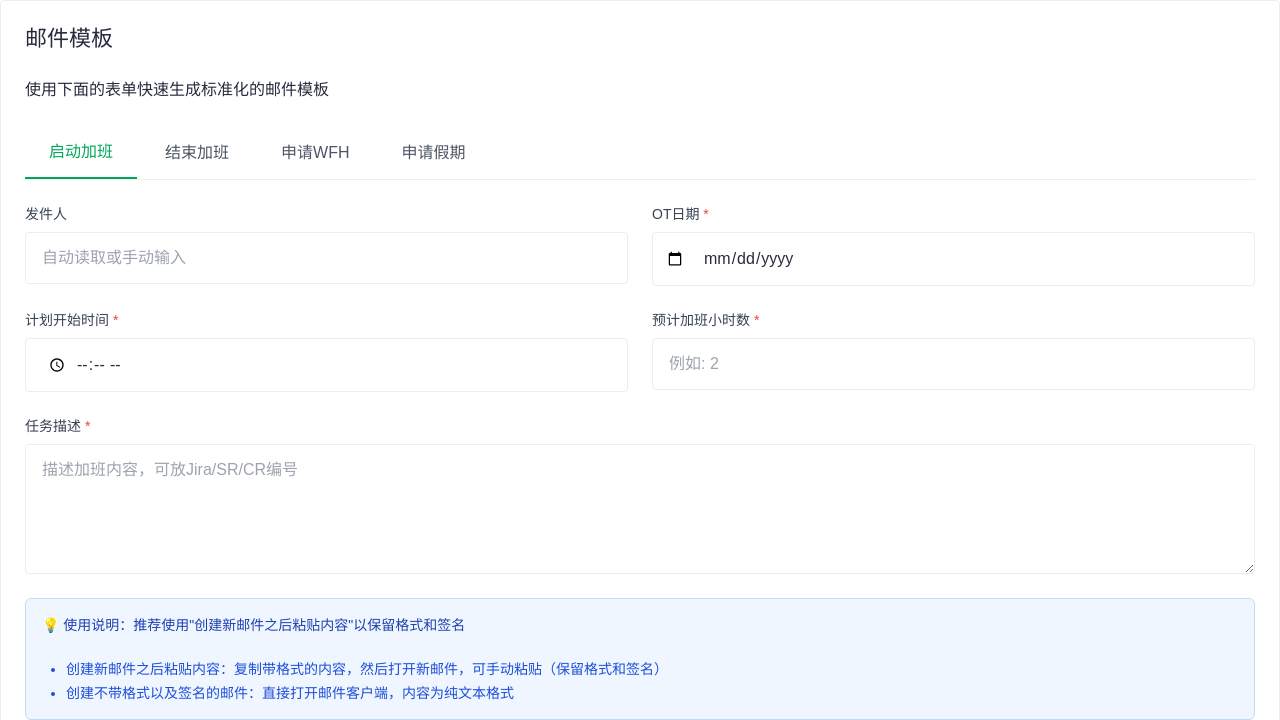
Test: Emailer Page › should switch tabs
What coordinates should you click on to do the following:
click the button "申请WFH"
I would click on:
 (315, 153)
Its box is [257,127,373,179].
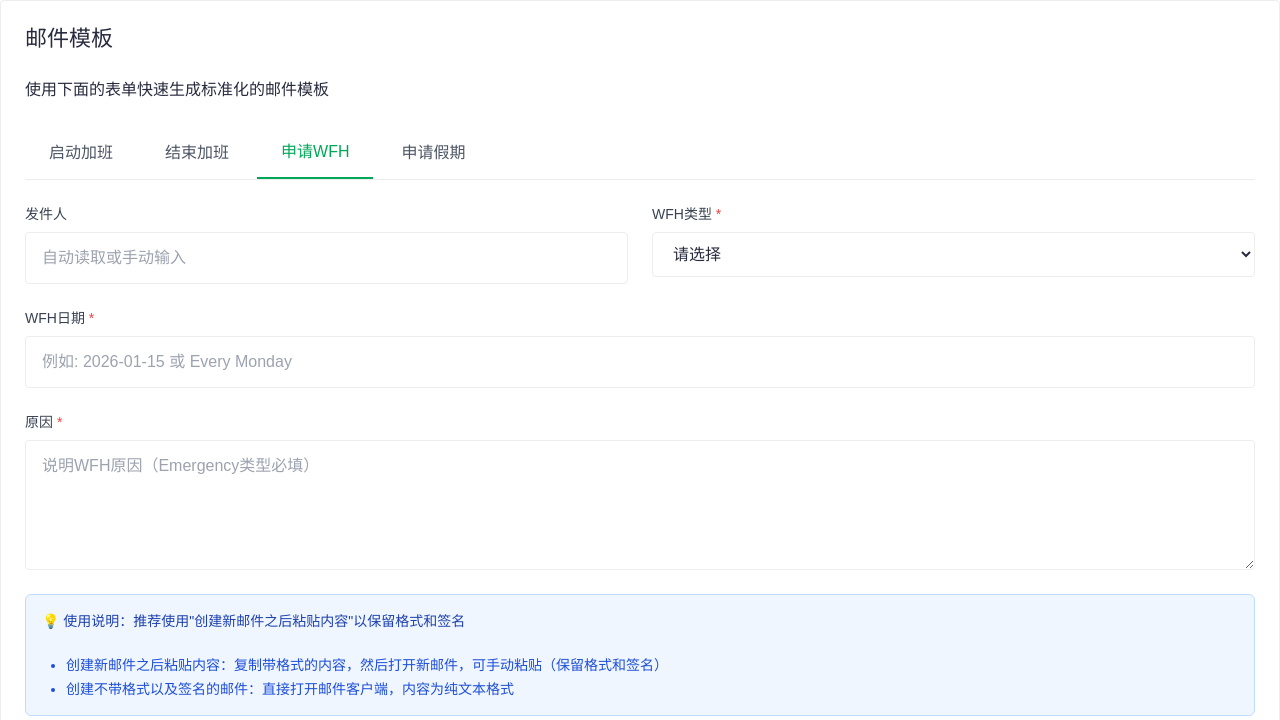
expect the text "WFH类型" is shown: met, box [652,206,716,222]
